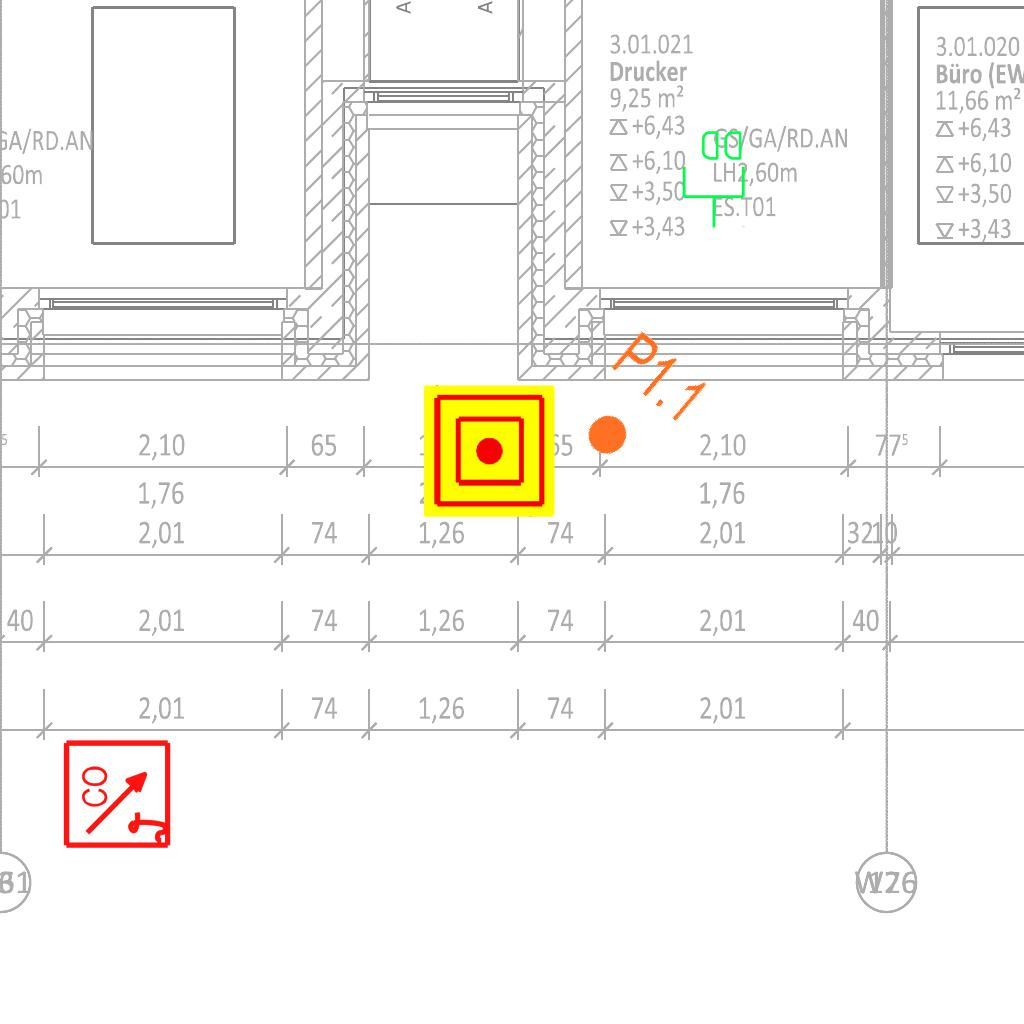Datenanschluss_zweifach: (680, 127, 749, 230)
Downlight_LED_Einbauleuchten_Flur: (559, 326, 714, 484)
NAM-Nichtautomatischer_Melder: (423, 385, 555, 517)
ROA_Rauchmelder_optisch_mit_Signalgeber_(Sockelsirene): (62, 737, 175, 850)
